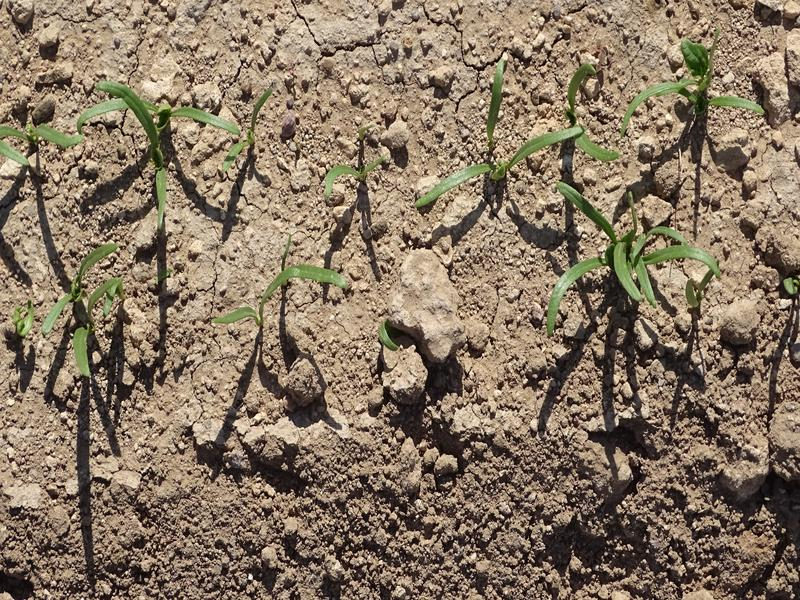Espinaca: (421, 52, 614, 203), (76, 78, 280, 206), (547, 180, 719, 331), (626, 35, 763, 137), (38, 243, 124, 376), (209, 261, 355, 330), (325, 155, 390, 196)
